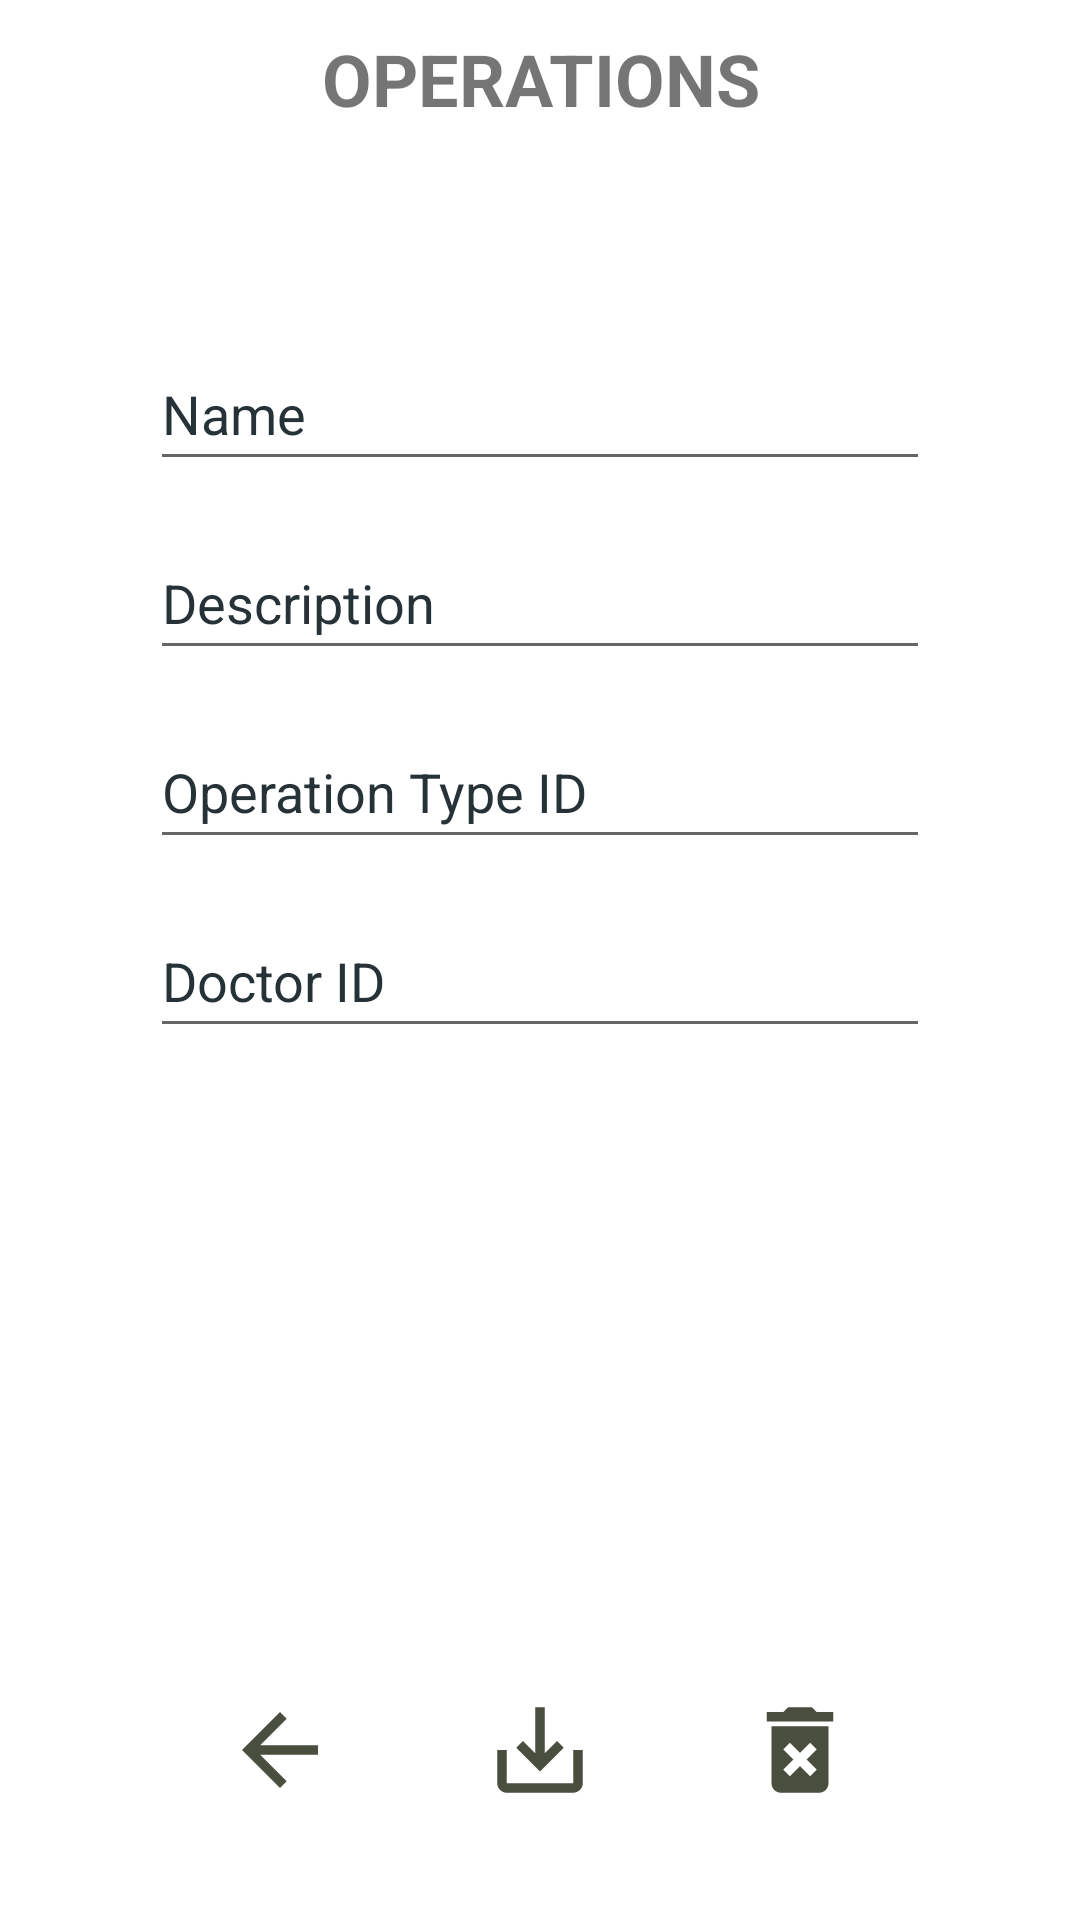

Named icons in this screenshot (1080px×1920px) and their bounding boxes, (x1, y1, x2, y2):
back: (242, 1712, 318, 1788)
delete: (766, 1707, 834, 1793)
save: (497, 1707, 583, 1793)
